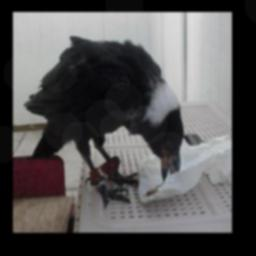Crow: (23, 34, 187, 209)
